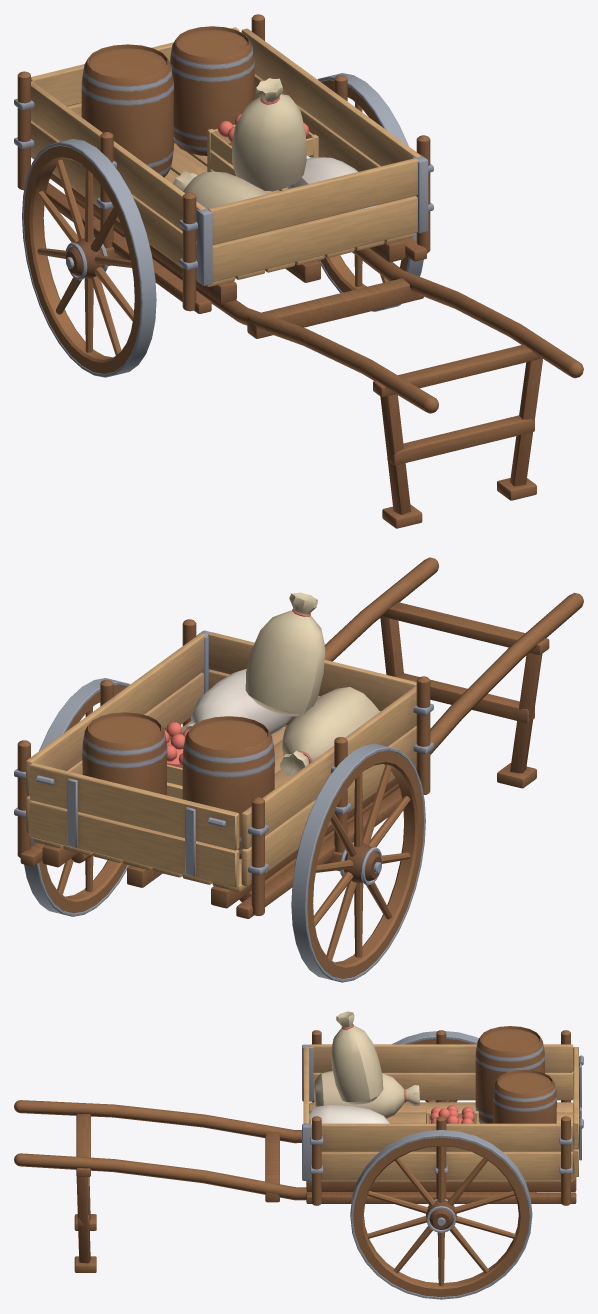
The model's file is horse-cart.glb.
3 views of the same model, one above another, from view 1: azimuth 30°, elevation 25°; view 2: azimuth 150°, elevation 25°; view 3: azimuth 270°, elevation 25° (orthographic). The views are drawn at different scales.
Visible parts, largest first — view 1: horse-cart_body, horse-cart_wheel_left, horse-cart_wheel_right, horse-cart_tailboard, horse-cart_crate; view 2: horse-cart_body, horse-cart_wheel_left, horse-cart_tailboard, horse-cart_wheel_right, horse-cart_apples; view 3: horse-cart_body, horse-cart_wheel_right, horse-cart_tailboard, horse-cart_wheel_left, horse-cart_apples.
Boxes of the visible parts, box(x1,y1,x2,y2) form: horse-cart_body: box(14, 14, 583, 528); horse-cart_wheel_left: box(22, 139, 156, 377); horse-cart_wheel_right: box(317, 73, 423, 311); horse-cart_tailboard: box(31, 27, 239, 116); horse-cart_crate: box(207, 124, 318, 190); horse-cart_body: box(14, 557, 583, 918); horse-cart_wheel_left: box(291, 743, 425, 982); horse-cart_tailboard: box(29, 763, 239, 887); horse-cart_wheel_right: box(24, 678, 129, 916); horse-cart_apples: box(164, 722, 189, 782); horse-cart_body: box(14, 1011, 576, 1272); horse-cart_wheel_right: box(350, 1130, 532, 1299); horse-cart_tailboard: box(573, 1047, 583, 1176); horse-cart_wheel_left: box(392, 1031, 478, 1102); horse-cart_apples: box(430, 1105, 474, 1123).
Bounding box in the file's own units: 1.85 × 1.72 × 3.89.
8 materials, 2 textured.
